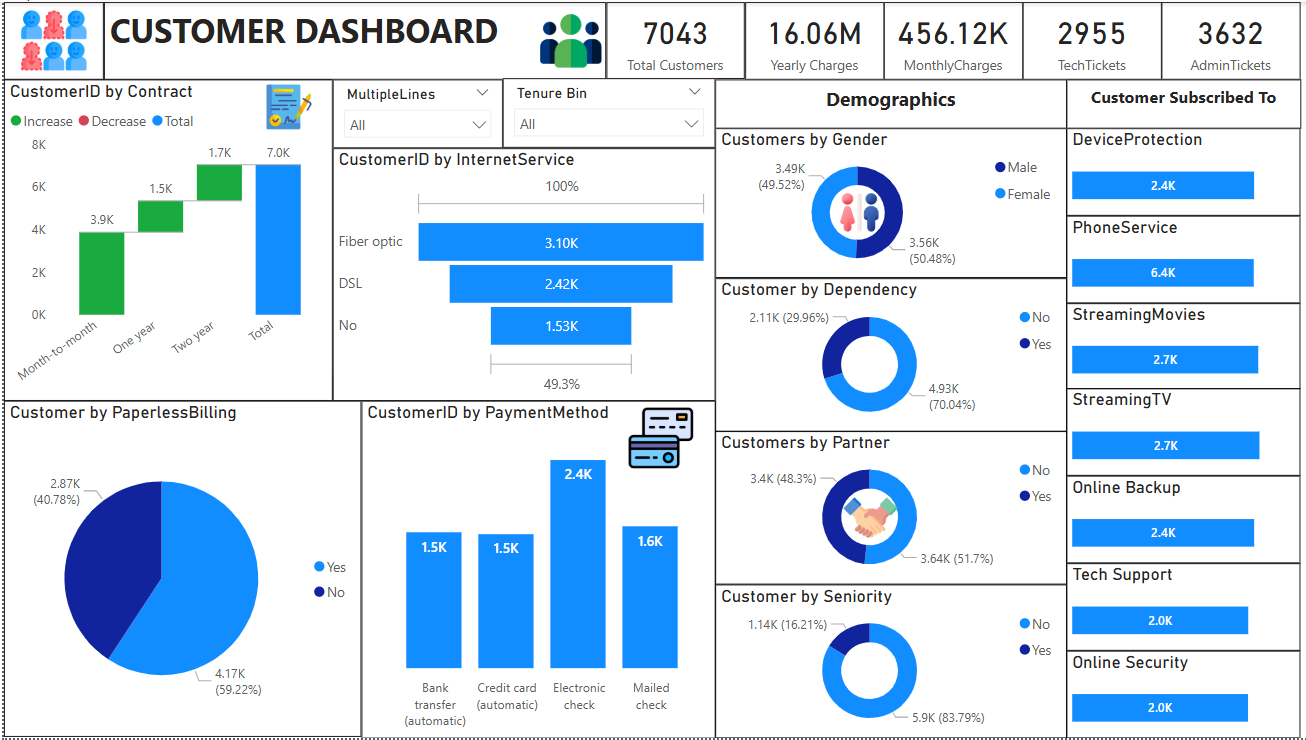

The page's visual inventory and layout, read from the dashboard file:
{"tool":"powerbi","page":{"name":"Customer Analysis","canvas":[1280,720],"ordinal":1},"visuals":[{"type":"group","id":"g1","title":"Group 1","box":[1039.4,123.5,229.9,595.5],"z":0},{"type":"clusteredBarChart","title":"DeviceProtection","fields":{"Category":["01 Churn-Dataset.DeviceProtection"],"Y":["CountNonNull(01 Churn-Dataset.customerID)"]},"box":[1039.4,123.5,229,85.3],"z":0,"group":"g1"},{"type":"donutChart","title":"Customers by Gender","fields":{"Category":["01 Churn-Dataset.gender"],"Y":["CountNonNull(01 Churn-Dataset.customerID)"]},"box":[696.2,123.8,343.8,146.2],"z":1000},{"type":"clusteredBarChart","title":"PhoneService","fields":{"Category":["01 Churn-Dataset.PhoneService"],"Y":["CountNonNull(01 Churn-Dataset.customerID)"]},"box":[1039.4,208.8,229,85.3],"z":1000,"group":"g1"},{"type":"card","fields":{"Values":["CountNonNull(01 Churn-Dataset.customerID)"]},"box":[589.4,0,135.1,75.4],"z":2000,"group":"g2"},{"type":"clusteredBarChart","title":"StreamingMovies","fields":{"Y":["CountNonNull(01 Churn-Dataset.customerID)"],"Category":["01 Churn-Dataset.StreamingMovies"]},"box":[1039.4,294.2,229,83.9],"z":2000,"group":"g1"},{"type":"columnChart","title":"CustomerID by PaymentMethod","fields":{"Category":["01 Churn-Dataset.PaymentMethod"],"Y":["CountNonNull(01 Churn-Dataset.customerID)"]},"box":[350,390,346.2,330],"z":2000},{"type":"clusteredBarChart","title":"StreamingTV","fields":{"Y":["CountNonNull(01 Churn-Dataset.customerID)"],"Category":["01 Churn-Dataset.StreamingTV"]},"box":[1039.4,378.1,229,85.3],"z":3000,"group":"g1"},{"type":"donutChart","title":"Customers by Partner","fields":{"Y":["CountNonNull(01 Churn-Dataset.customerID)"],"Category":["01 Churn-Dataset.Partner"]},"box":[696.2,420,343.8,150],"z":3000},{"type":"card","fields":{"Values":["Sum(01 Churn-Dataset.MonthlyCharges)"]},"box":[860.9,0,135.7,75.8],"z":4000,"group":"g2"},{"type":"donutChart","title":"Customer by Dependency","fields":{"Category":["01 Churn-Dataset.Dependents"],"Y":["CountNonNull(01 Churn-Dataset.customerID)"]},"box":[696.2,270,343.8,150],"z":4000},{"type":"clusteredBarChart","title":"Online Backup","fields":{"Y":["CountNonNull(01 Churn-Dataset.customerID)"],"Category":["01 Churn-Dataset.OnlineBackup"]},"box":[1039.4,463.4,229,85.3],"z":4000,"group":"g1"},{"type":"card","fields":{"Values":["Sum(01 Churn-Dataset.numAdminTickets)"]},"box":[1132.4,0,135.7,75.8],"z":5000,"group":"g2"},{"type":"textbox","box":[1039.4,75.8,229.9,47.7],"z":5000},{"type":"clusteredBarChart","title":"Tech Support","fields":{"Y":["CountNonNull(01 Churn-Dataset.customerID)"],"Category":["01 Churn-Dataset.TechSupport"]},"box":[1039.4,548.7,229,85.3],"z":5000,"group":"g1"},{"type":"group","id":"g2","title":"Group 2","box":[589.4,0,678.7,75.8],"z":6000},{"type":"card","fields":{"Values":["Sum(01 Churn-Dataset.numTechTickets)"]},"box":[996.7,0,135.7,75.8],"z":6000,"group":"g2"},{"type":"clusteredBarChart","title":"Online Security","fields":{"Y":["CountNonNull(01 Churn-Dataset.customerID)"],"Category":["01 Churn-Dataset.OnlineSecurity"]},"box":[1039.4,634.1,229,85.3],"z":6000,"group":"g1"},{"type":"card","fields":{"Values":["Sum(01 Churn-Dataset.TotalCharges)"]},"box":[725.2,0,135.7,75.8],"z":7000,"group":"g2"},{"type":"donutChart","title":"Customer by Seniority","fields":{"Category":["01 Churn-Dataset.Senior_CitizenYN"],"Y":["CountNonNull(01 Churn-Dataset.customerID)"]},"box":[696.2,570,343.8,150],"z":7000},{"type":"textbox","box":[695.8,75.8,343.6,47.7],"z":8000},{"type":"pieChart","title":"Customer by PaperlessBilling","fields":{"Category":["01 Churn-Dataset.PaperlessBilling"],"Y":["CountNonNull(01 Churn-Dataset.customerID)"]},"box":[0,390.1,349.7,328.9],"z":9000},{"type":"funnel","title":"CustomerID by InternetService","fields":{"Category":["01 Churn-Dataset.InternetService"],"Y":["CountNonNull(01 Churn-Dataset.customerID)"]},"box":[321.6,143.1,374.2,247],"z":10000},{"type":"waterfallChart","title":"CustomerID by Contract","fields":{"Category":["01 Churn-Dataset.Contract"],"Y":["CountNonNull(01 Churn-Dataset.customerID)"]},"box":[0,75.8,321.6,314.3],"z":11000},{"type":"textbox","box":[97.8,0,491.6,75.8],"z":12000},{"type":"slicer","fields":{"Values":["01 Churn-Dataset.MultipleLines"]},"box":[321.6,75.8,166.3,67.3],"z":13000},{"type":"image","box":[792.4,182.2,88,47.7],"z":14000},{"type":"image","box":[589.4,390.1,106.4,73.4],"z":15000},{"type":"image","box":[236,75.8,85.6,53.8],"z":16000},{"type":"image","box":[519.7,0,69.7,75.8],"z":17000},{"type":"image","box":[802.1,473.6,91,62.6],"z":18000},{"type":"image","box":[0,0,97.8,75.8],"z":19000},{"type":"slicer","fields":{"Values":["01 Churn-Dataset.Tenure Bin"]},"box":[487.7,75,207.8,67.8],"z":20000}]}

Visuals, with their boxes in screenshot pixels (x1, y1, x2, y2), scaled from the page's 1280x720 canvas onto the 1306x740 screenshot:
"Group 1" group: box=[1061, 127, 1295, 739]
"DeviceProtection" clusteredBarChart: box=[1061, 127, 1294, 215]
"Customers by Gender" donutChart: box=[710, 127, 1061, 278]
"PhoneService" clusteredBarChart: box=[1061, 215, 1294, 302]
card - CountNonNull(01 Churn-Dataset.customerID): box=[601, 0, 739, 77]
"StreamingMovies" clusteredBarChart: box=[1061, 302, 1294, 389]
"CustomerID by PaymentMethod" columnChart: box=[357, 401, 710, 739]
"StreamingTV" clusteredBarChart: box=[1061, 389, 1294, 476]
"Customers by Partner" donutChart: box=[710, 432, 1061, 586]
card - Sum(01 Churn-Dataset.MonthlyCharges): box=[878, 0, 1017, 78]
"Customer by Dependency" donutChart: box=[710, 278, 1061, 432]
"Online Backup" clusteredBarChart: box=[1061, 476, 1294, 564]
card - Sum(01 Churn-Dataset.numAdminTickets): box=[1155, 0, 1294, 78]
textbox: box=[1061, 78, 1295, 127]
"Tech Support" clusteredBarChart: box=[1061, 564, 1294, 652]
"Group 2" group: box=[601, 0, 1294, 78]
card - Sum(01 Churn-Dataset.numTechTickets): box=[1017, 0, 1155, 78]
"Online Security" clusteredBarChart: box=[1061, 652, 1294, 739]
card - Sum(01 Churn-Dataset.TotalCharges): box=[740, 0, 878, 78]
"Customer by Seniority" donutChart: box=[710, 586, 1061, 739]
textbox: box=[710, 78, 1061, 127]
"Customer by PaperlessBilling" pieChart: box=[0, 401, 357, 739]
"CustomerID by InternetService" funnel: box=[328, 147, 710, 401]
"CustomerID by Contract" waterfallChart: box=[0, 78, 328, 401]
textbox: box=[100, 0, 601, 78]
slicer - 01 Churn-Dataset.MultipleLines: box=[328, 78, 498, 147]
image: box=[808, 187, 898, 236]
image: box=[601, 401, 710, 476]
image: box=[241, 78, 328, 133]
image: box=[530, 0, 601, 78]
image: box=[818, 487, 911, 551]
image: box=[0, 0, 100, 78]
slicer - 01 Churn-Dataset.Tenure Bin: box=[498, 77, 710, 147]
